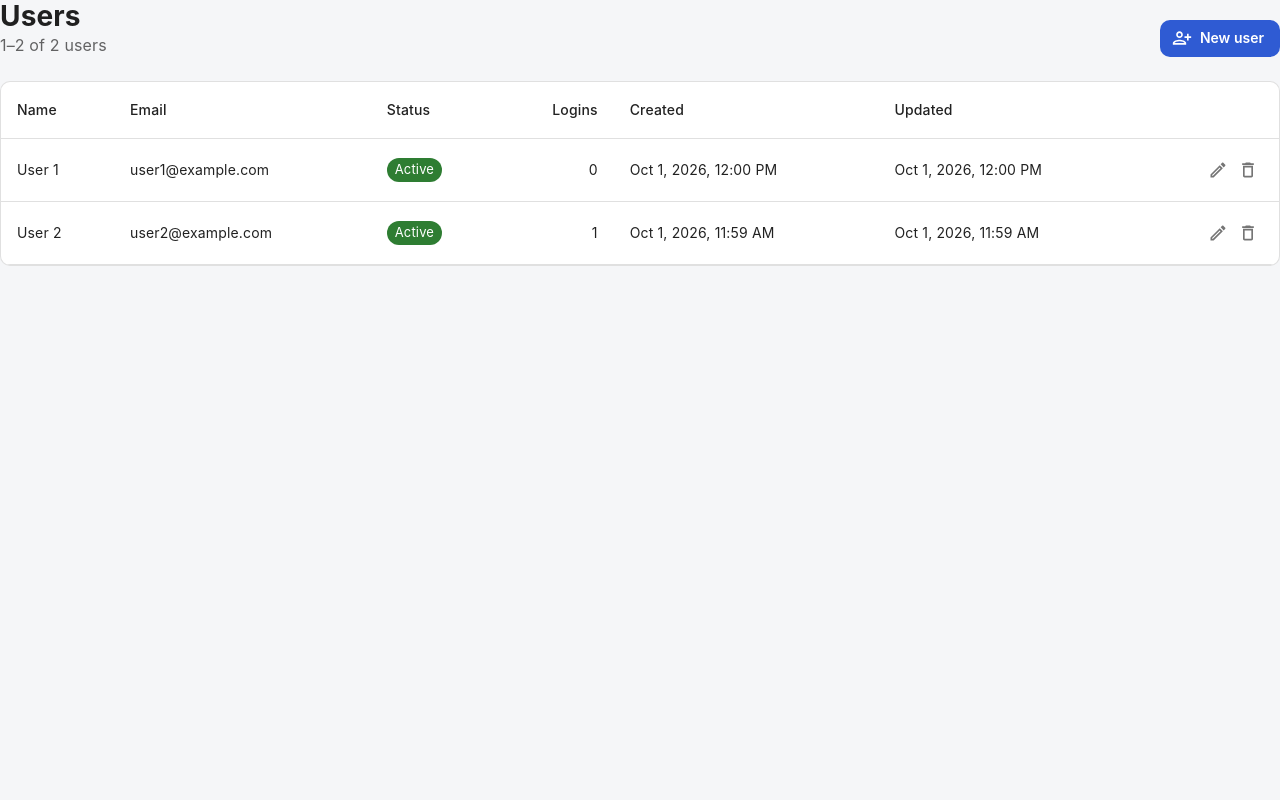
it: UsersDashboard: edit (T7.5) › sends only changed fields and refreshes the row
The width and height of the screenshot is (1280, 800).
Click the button named "Edit User 1": [1218, 170] box [1203,155,1233,185]
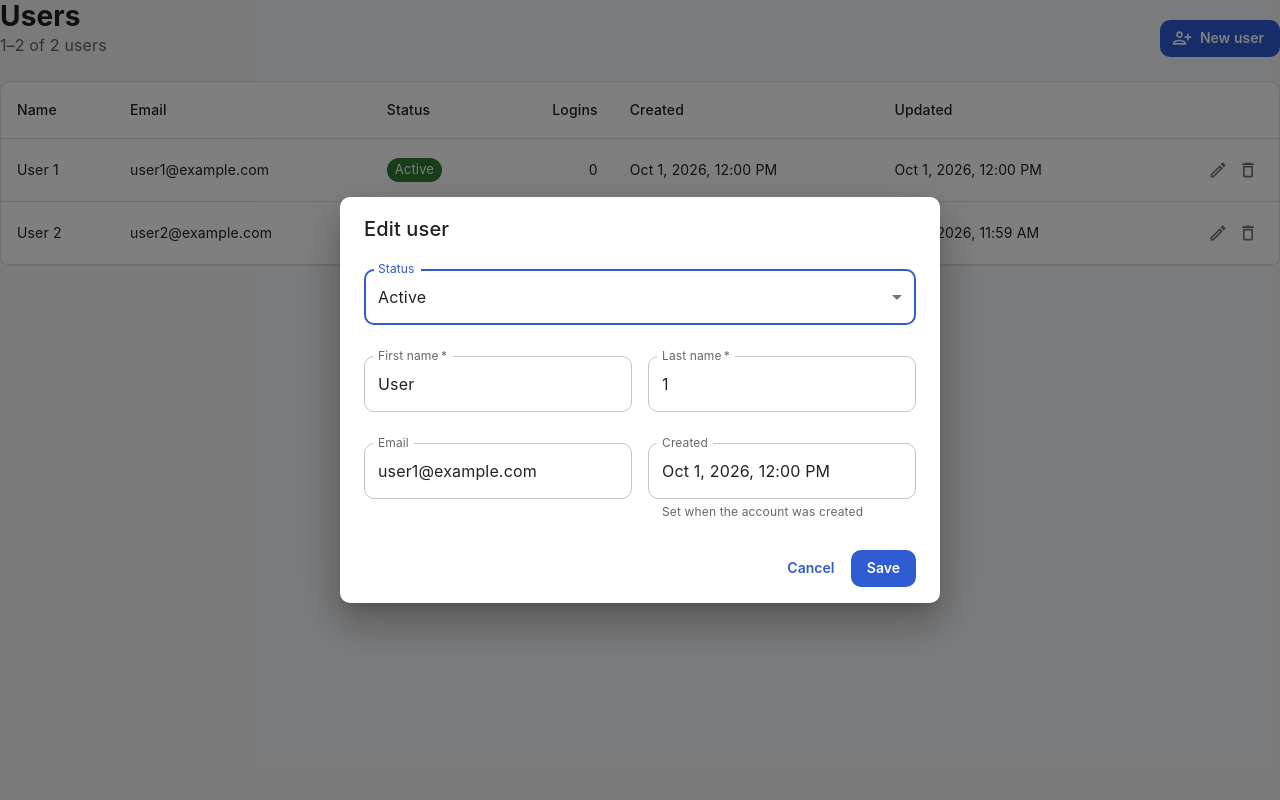
Replace the text in the field labelled "First name *" with "Renamed": [498, 384] box [364,356,632,412]
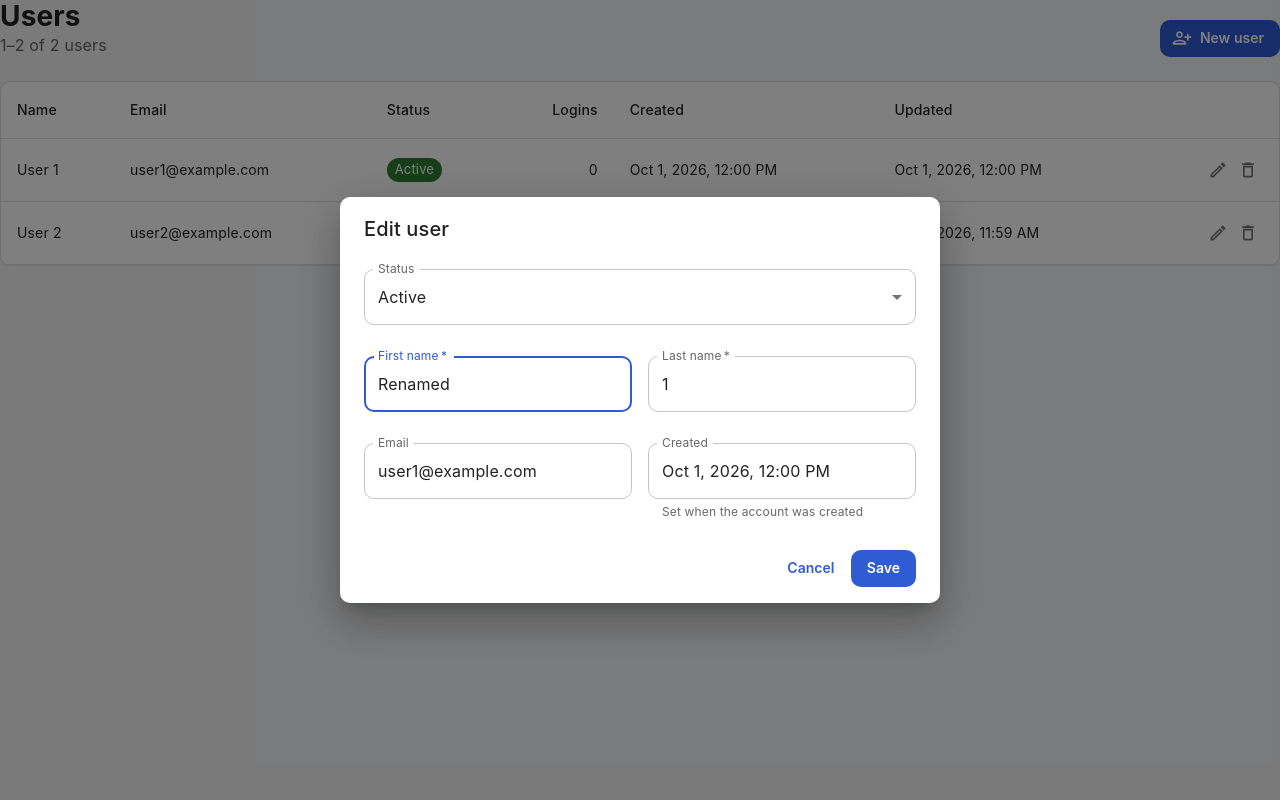
Click the button "Save": [883, 568] box [851,550,916,587]
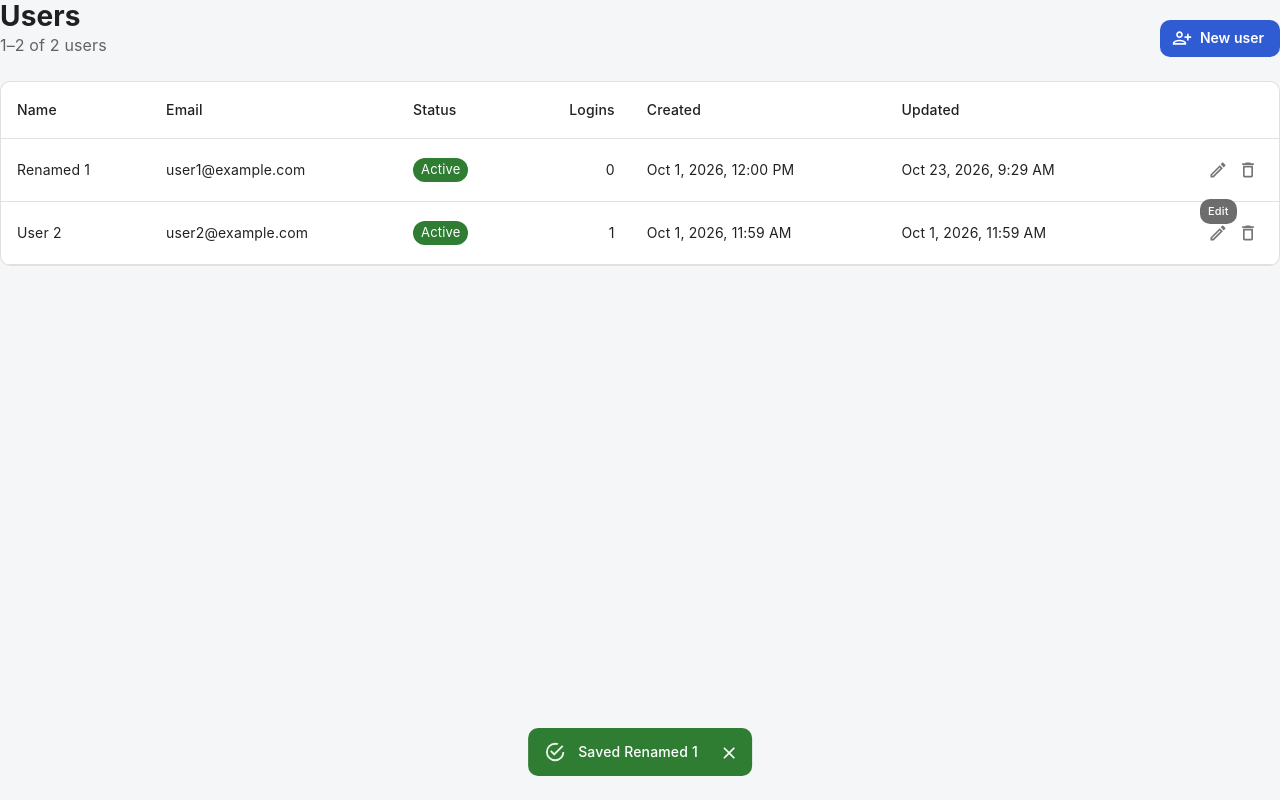
Result: the text "Renamed 1" is shown at [17,160,90,180]
